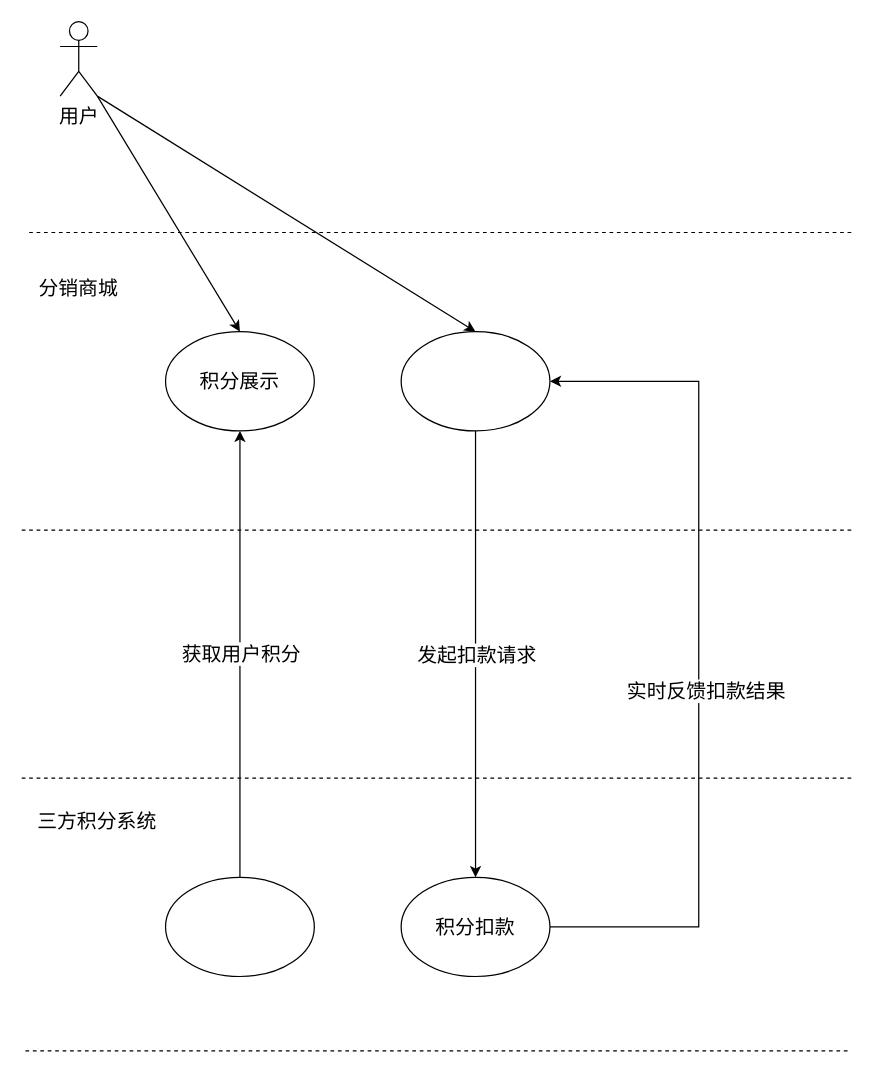
This 874x1074 diagram has some shape labels left out. Here are the shapes that lost their labels. From the top down, the centre of each, then its label:
point 475,380: 订单支付
point 239,926: 积分查询
